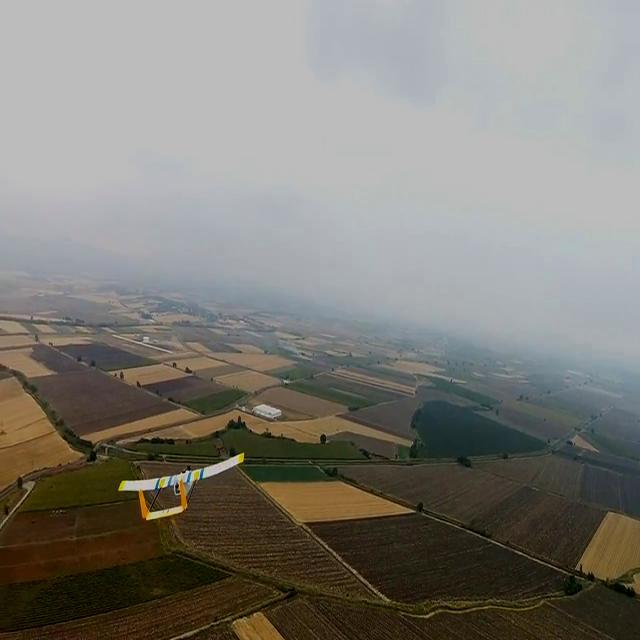iha: (110, 465, 257, 504)
